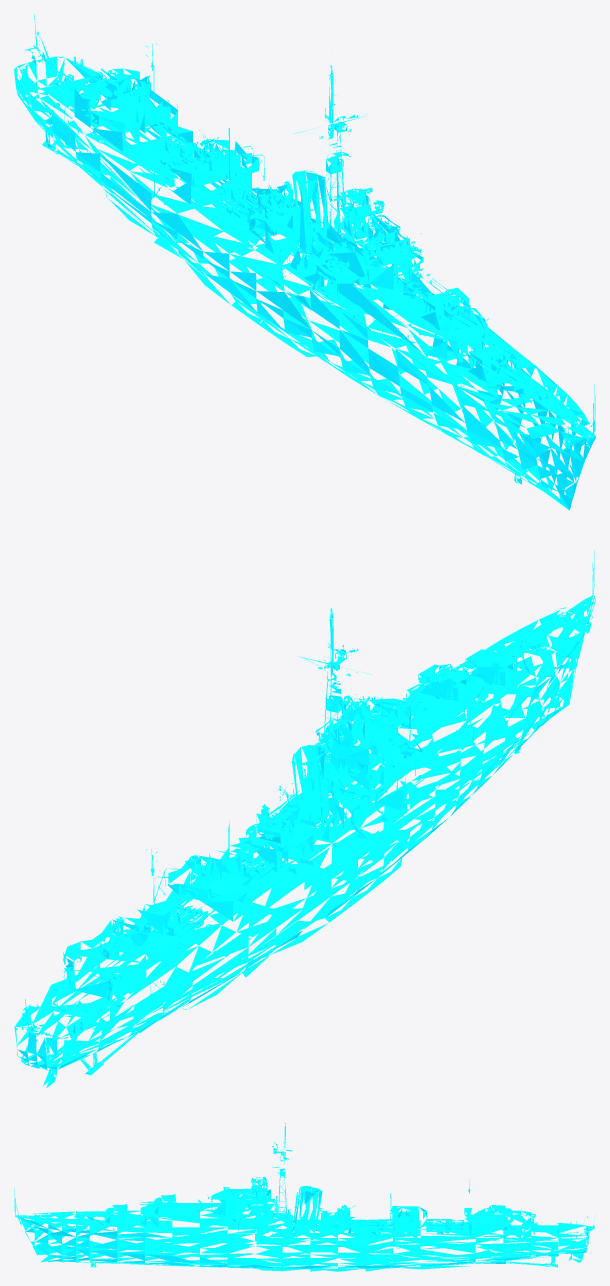
File: Somme.glb
3 renders of one model, top to bottom at view 1: azimuth 30°, elevation 25°; view 2: azimuth 150°, elevation 25°; view 3: azimuth 270°, elevation 25°, orthographic. The views are drawn at different scales.
Size of the model in its own units: 0.8153 by 2.23 by 7.81.
